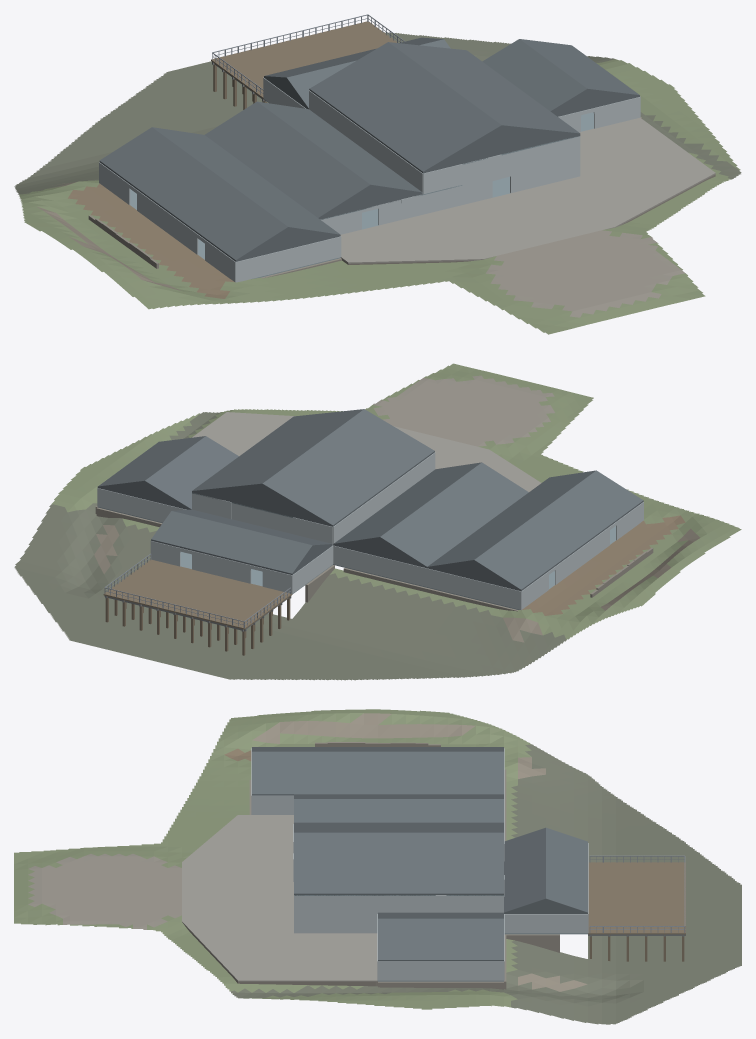
File: saved-earthworks.glb
3 views of the same model, one above another, from view 1: azimuth 30°, elevation 25°; view 2: azimuth 150°, elevation 25°; view 3: azimuth 270°, elevation 25° (orthographic). The views are drawn at different scales.
Visible parts, largest first — view 1: Saved editor geographic earthworks WLD-13, WLD-13 cannery service yard structural surface region0, processing-hall roof west, crew-mess-and-bunks roof west, boiler-and-wash roof west, processing-hall roof east, WLD-13 shore loading dock structural surface region0, crew-mess-and-bunks roof east, boiler-and-wash roof east, cold-store roof west, Entrance rebuild WLD-13 processing S end, cold-store roof east (+18 smaller); view 2: Saved editor geographic earthworks WLD-13, processing-hall roof west, crew-mess-and-bunks roof west, WLD-13 shore loading dock structural surface region0, boiler-and-wash roof west, office-and-stores roof north, WLD-13 cannery service yard structural surface region0, processing-hall roof east, crew-mess-and-bunks roof east, cold-store roof west, boiler-and-wash roof east, processing-hall gable north (+20 smaller); view 3: Saved editor geographic earthworks WLD-13, WLD-13 cannery service yard structural surface region0, processing-hall roof east, crew-mess-and-bunks roof east, WLD-13 shore loading dock structural surface region0, cold-store roof east, boiler-and-wash roof east, Entrance rebuild WLD-13 processing E end, office-and-stores roof south, office-and-stores roof north, Wall cold E, processing-hall roof west (+8 smaller).
Part boxes in pixels (<box>): Saved editor geographic earthworks WLD-13: <box>14,32,741,334</box>; WLD-13 cannery service yard structural surface region0: <box>340,117,715,263</box>; processing-hall roof west: <box>309,42,501,172</box>; crew-mess-and-bunks roof west: <box>99,127,288,261</box>; boiler-and-wash roof west: <box>205,101,370,218</box>; processing-hall roof east: <box>388,42,580,134</box>; WLD-13 shore loading dock structural surface region0: <box>211,21,396,99</box>; crew-mess-and-bunks roof east: <box>152,127,340,235</box>; boiler-and-wash roof east: <box>257,101,422,193</box>; cold-store roof west: <box>482,39,587,111</box>; Entrance rebuild WLD-13 processing S end: <box>510,136,580,192</box>; cold-store roof east: <box>520,39,639,96</box>; Saved editor geographic earthworks WLD-13: <box>14,363,741,680</box>; processing-hall roof west: <box>262,409,434,526</box>; crew-mess-and-bunks roof west: <box>474,470,643,590</box>; WLD-13 shore loading dock structural surface region0: <box>103,559,292,629</box>; boiler-and-wash roof west: <box>380,462,528,567</box>; office-and-stores roof north: <box>151,511,312,574</box>; WLD-13 cannery service yard structural surface region0: <box>192,412,541,491</box>; processing-hall roof east: <box>192,409,363,492</box>; crew-mess-and-bunks roof east: <box>427,470,595,568</box>; cold-store roof west: <box>144,436,238,509</box>; boiler-and-wash roof east: <box>333,462,481,545</box>; processing-hall gable north: <box>192,485,333,526</box>; Saved editor geographic earthworks WLD-13: <box>14,709,741,1024</box>; WLD-13 cannery service yard structural surface region0: <box>182,815,377,981</box>; processing-hall roof east: <box>294,832,503,894</box>; crew-mess-and-bunks roof east: <box>252,751,503,795</box>; WLD-13 shore loading dock structural surface region0: <box>588,862,685,934</box>; cold-store roof east: <box>378,918,503,961</box>; boiler-and-wash roof east: <box>294,799,503,822</box>; Entrance rebuild WLD-13 processing E end: <box>294,895,433,933</box>; office-and-stores roof south: <box>504,827,545,913</box>; office-and-stores roof north: <box>546,827,587,913</box>; Wall cold E: <box>378,961,503,980</box>; processing-hall roof west: <box>294,822,503,832</box>.
Bounding box in the file's own units: 97 × 15.43 × 104.
36 materials, 16 textured.
